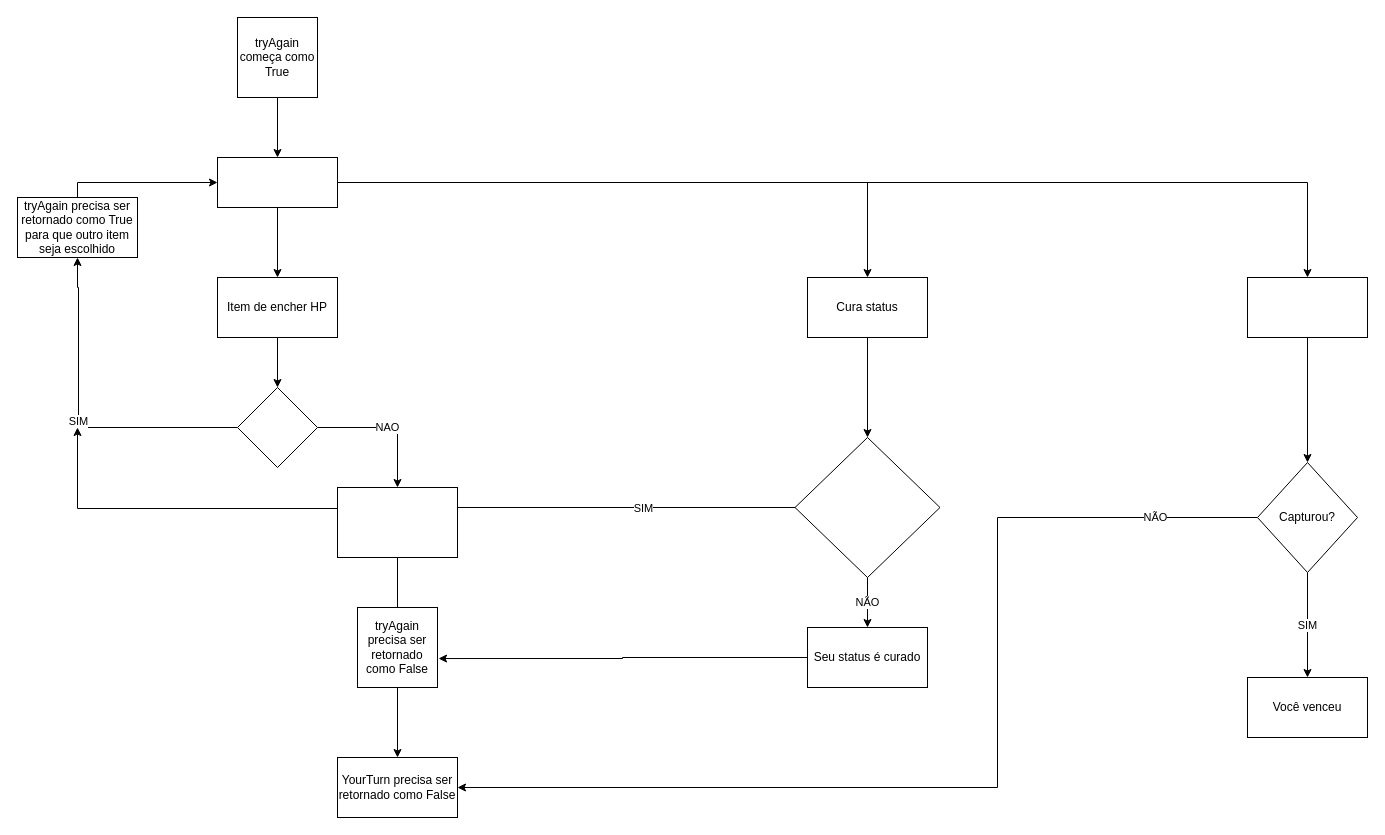
The diagram is 1385 pixels wide and 835 high, and some of its shapes have lost their labels. The shapes that lost their labels are listed below. From the top down, each one's centre as x and y in pixels, then its label:
point (277, 182): escolha um item
point (1307, 307): Pokebola
point (277, 427): HP está cheio?
point (397, 522): Hp se cura
point (867, 507): seu status está normal?
